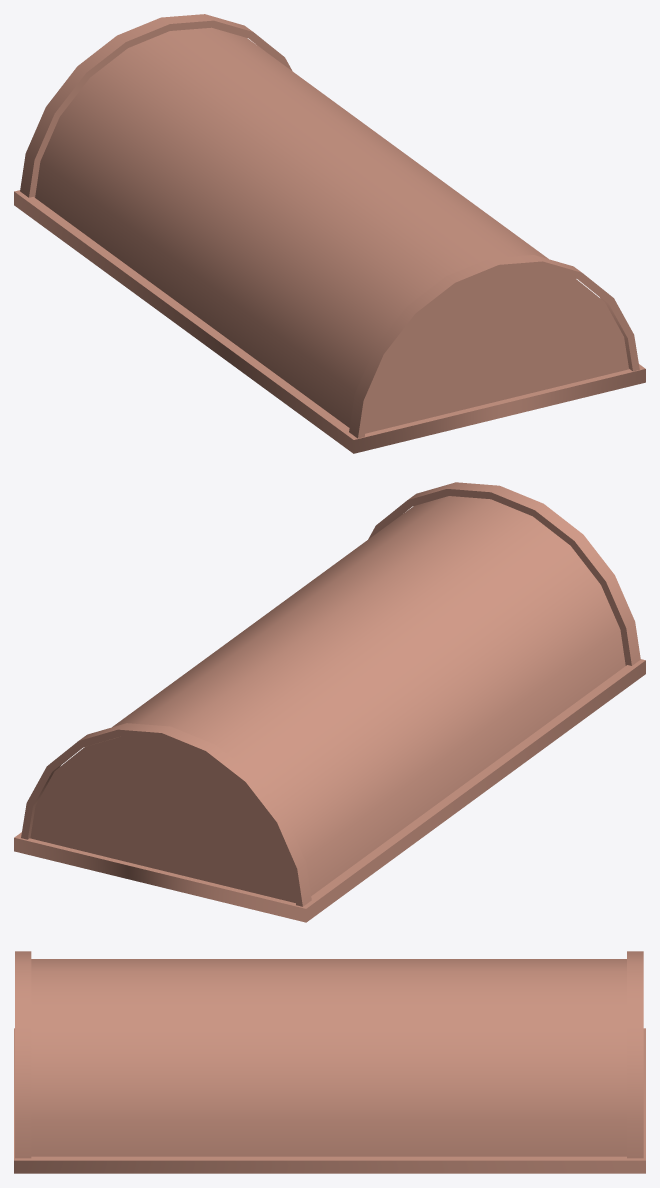
Rendered from Chest_Door_Lod0.fbx.
3 renders of one model, top to bottom at view 1: azimuth 30°, elevation 25°; view 2: azimuth 150°, elevation 25°; view 3: azimuth 270°, elevation 25°, orthographic. The views are drawn at different scales.
Visible parts, largest first — view 1: Chest_Door_Lod0; view 2: Chest_Door_Lod0; view 3: Chest_Door_Lod0.
Part boxes in pixels (bbox=[...]): Chest_Door_Lod0: bbox=[14, 14, 645, 453]; Chest_Door_Lod0: bbox=[14, 482, 645, 922]; Chest_Door_Lod0: bbox=[14, 951, 645, 1173].
Size of the model in its own units: 60.48 by 30.28 by 122.
